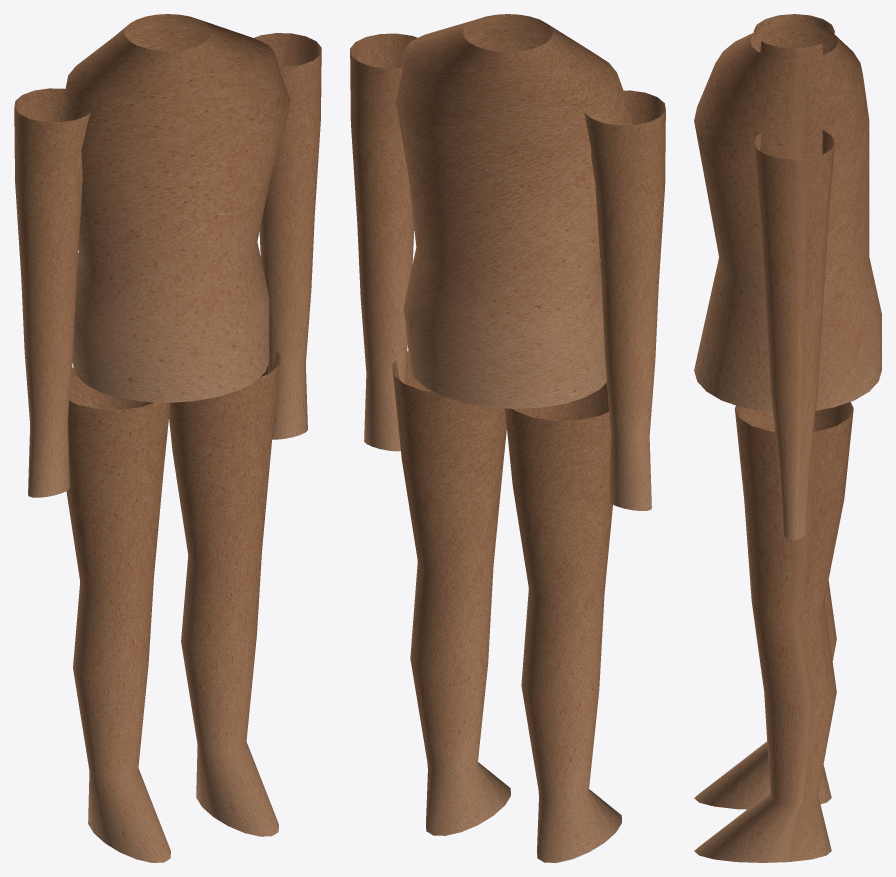
Rendered from human_body_realistic.obj.
The picture shows the model from 3 angles, left to right: view 1: azimuth 30°, elevation 25°; view 2: azimuth 150°, elevation 25°; view 3: azimuth 270°, elevation 25°; orthographic projection. The views are drawn at different scales.
Parts seen in each view (by area): view 1: Realistic_Human_Body_1_to_1; view 2: Realistic_Human_Body_1_to_1; view 3: Realistic_Human_Body_1_to_1.
Part boxes in pixels (x1,y1,x2,y2): Realistic_Human_Body_1_to_1: (14,14,321,862); Realistic_Human_Body_1_to_1: (350,14,665,862); Realistic_Human_Body_1_to_1: (694,14,881,862).
Bounding box in the file's own units: 0.55 × 1.38 × 0.3.
